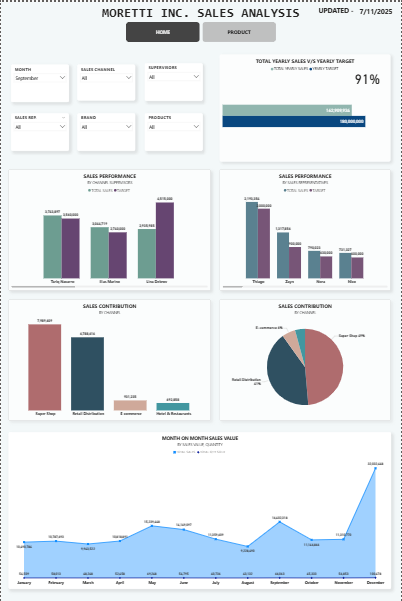

This screenshot's page, from the dashboard's own definition file:
{"tool":"powerbi","page":{"name":"HOME","canvas":[1600,2400],"ordinal":0},"visuals":[{"type":"card","title":"UPDATED -","fields":{"Values":["Masterdata.Date_Updated"]},"box":[1400,0,200,74],"z":0,"group":"g1"},{"type":"slicer","fields":{"Values":["Masterdata.Date.Variation.Date Hierarchy.Month"]},"box":[40,250,232,150],"z":0},{"type":"textbox","box":[1266,0,172,74],"z":1000,"group":"g1"},{"type":"slicer","fields":{"Values":["Customer.New"]},"box":[306.7,250,232,144],"z":1000},{"type":"pageNavigator","title":"NAVIGATION BAR","box":[495,74,610,90],"z":2000},{"type":"slicer","fields":{"Values":["Sales Person.New"]},"box":[40,444,232,150],"z":3000},{"type":"clusteredColumnChart","title":"SALES PERFORMANCE","fields":{"Y":["Sum(Masterdata.Total Amount)","Sum(Masterdata.SP_Target)"],"Category":["Supervisor.New"]},"box":[28,668,808,484],"z":4000},{"type":"clusteredColumnChart","title":"SALES CONTRIBUTION","fields":{"Category":["Masterdata.Sales Channel"],"Y":["Sum(Masterdata.Total Amount)"]},"box":[28,1192,808,484],"z":5000},{"type":"textbox","box":[0,0,1600,104],"z":6000},{"type":"clusteredBarChart","title":"TOTAL YEARLY SALES V/S YEARLY TARGET","fields":{"Y":["Sum(Masterdata.Total Amount)","Sum(Masterdata.Yearly Target)"]},"box":[876,208,682,428],"z":7000,"group":"g2"},{"type":"slicer","fields":{"Values":["Supervisor.New"]},"box":[573.3,246,232,150],"z":7000},{"type":"card","fields":{"Values":["Masterdata.YTD %"]},"box":[1378,250,180,108],"z":8000,"group":"g2"},{"type":"slicer","fields":{"Values":["Brand.New Brand"]},"box":[306,444,232,150],"z":8000},{"type":"slicer","fields":{"Values":["Product.New Product"]},"box":[574,444,232,150],"z":9000},{"type":"group","id":"g1","title":"Group 2","box":[1266,0,334,74],"z":10000},{"type":"group","id":"g2","title":"Group 1","box":[876,208,682,428],"z":11000},{"type":"clusteredColumnChart","title":"SALES PERFORMANCE","fields":{"Y":["Sum(Masterdata.Total Amount)","Sum(Masterdata.Merchandiser_target)"],"Category":["Sales Person.New"]},"box":[876,668,682,484],"z":12000},{"type":"pieChart","title":"SALES CONTRIBUTION","fields":{"Category":["Masterdata.Sales Channel"],"Y":["Sum(Masterdata.Total Amount)"]},"box":[876,1192,682,484],"z":13000},{"type":"areaChart","title":"MONTH ON MONTH SALES VALUE","fields":{"Y":["Sum(Masterdata.Total Amount)","Sum(Masterdata.Qty)"],"Category":["Masterdata.Date.Variation.Date Hierarchy.Month"]},"box":[28,1720,1530,628],"z":14000}]}

Visuals, with their boxes in screenshot pixels (x1, y1, x2, y2), scaled from the page's 1600x2400 canvas onto the 402x601 screenshot:
"UPDATED -" card: (left=352, top=0, right=401, bottom=19)
slicer - Masterdata.Date.Variation.Date Hierarchy.Month: (left=10, top=63, right=68, bottom=100)
textbox: (left=318, top=0, right=361, bottom=19)
slicer - Customer.New: (left=77, top=63, right=135, bottom=99)
"NAVIGATION BAR" pageNavigator: (left=124, top=19, right=278, bottom=41)
slicer - Sales Person.New: (left=10, top=111, right=68, bottom=149)
"SALES PERFORMANCE" clusteredColumnChart: (left=7, top=167, right=210, bottom=288)
"SALES CONTRIBUTION" clusteredColumnChart: (left=7, top=298, right=210, bottom=420)
textbox: (left=0, top=0, right=401, bottom=26)
"TOTAL YEARLY SALES V/S YEARLY TARGET" clusteredBarChart: (left=220, top=52, right=391, bottom=159)
slicer - Supervisor.New: (left=144, top=62, right=202, bottom=99)
card - Masterdata.YTD %: (left=346, top=63, right=391, bottom=90)
slicer - Brand.New Brand: (left=77, top=111, right=135, bottom=149)
slicer - Product.New Product: (left=144, top=111, right=203, bottom=149)
"Group 2" group: (left=318, top=0, right=401, bottom=19)
"Group 1" group: (left=220, top=52, right=391, bottom=159)
"SALES PERFORMANCE" clusteredColumnChart: (left=220, top=167, right=391, bottom=288)
"SALES CONTRIBUTION" pieChart: (left=220, top=298, right=391, bottom=420)
"MONTH ON MONTH SALES VALUE" areaChart: (left=7, top=431, right=391, bottom=588)
